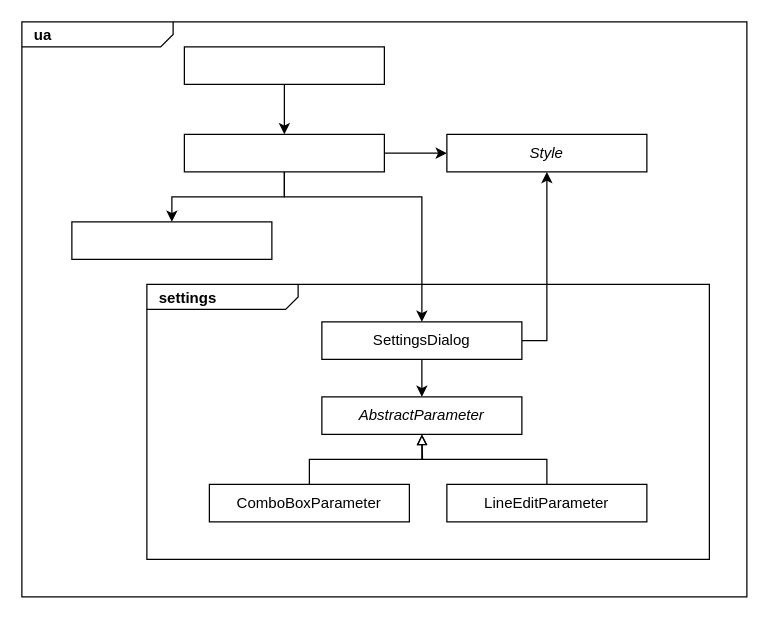
This 769x619 diagram has some shape labels left out. The shapes that lost their labels are listed below. From the top down, each one's centre as x and y in pixels, then its label:
At (x=283, y=65): "UserApplication".
At (x=283, y=152): "MainWindow".
At (x=171, y=240): "ClickableLabel".
